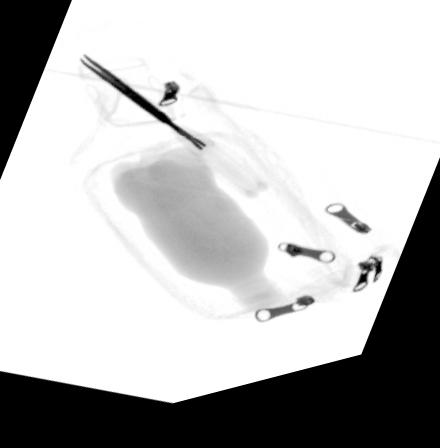Scissors: (77, 57, 270, 218)
